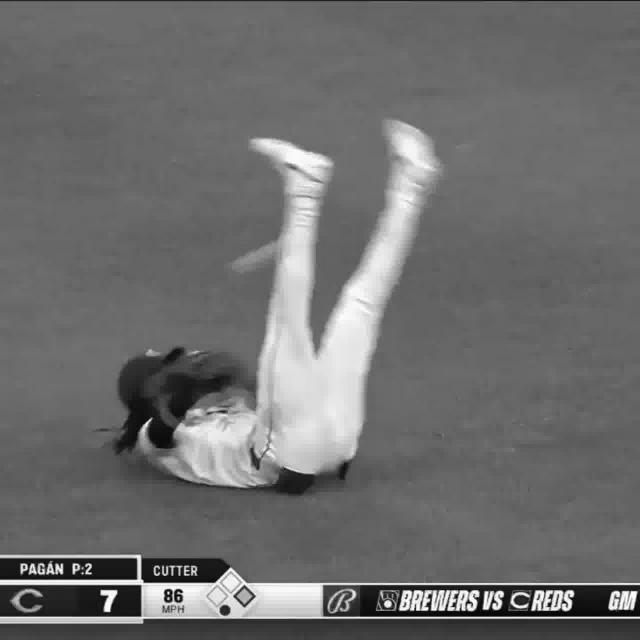baseball: (240, 239, 279, 277)
baseball_glove: (169, 349, 253, 387)
shoe: (250, 138, 335, 190), (386, 118, 445, 183)
